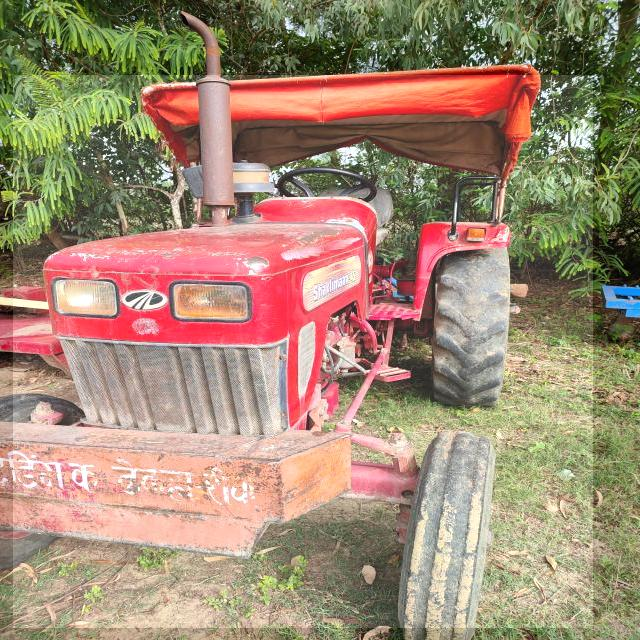Tractot: (14, 75, 594, 628)
